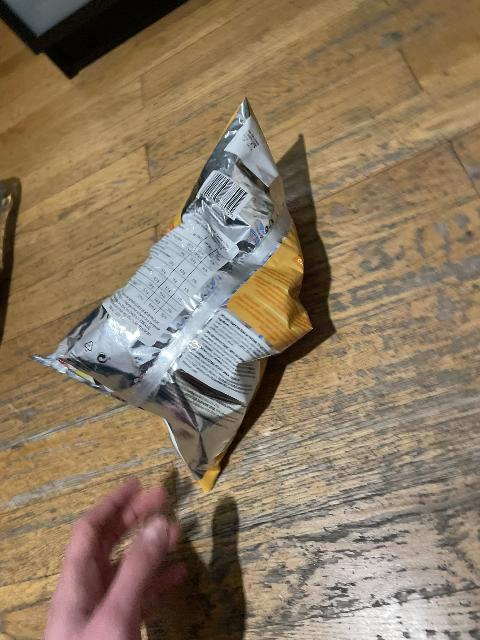Chio Hula Hoops Cheese 70g: (36, 103, 314, 479)
